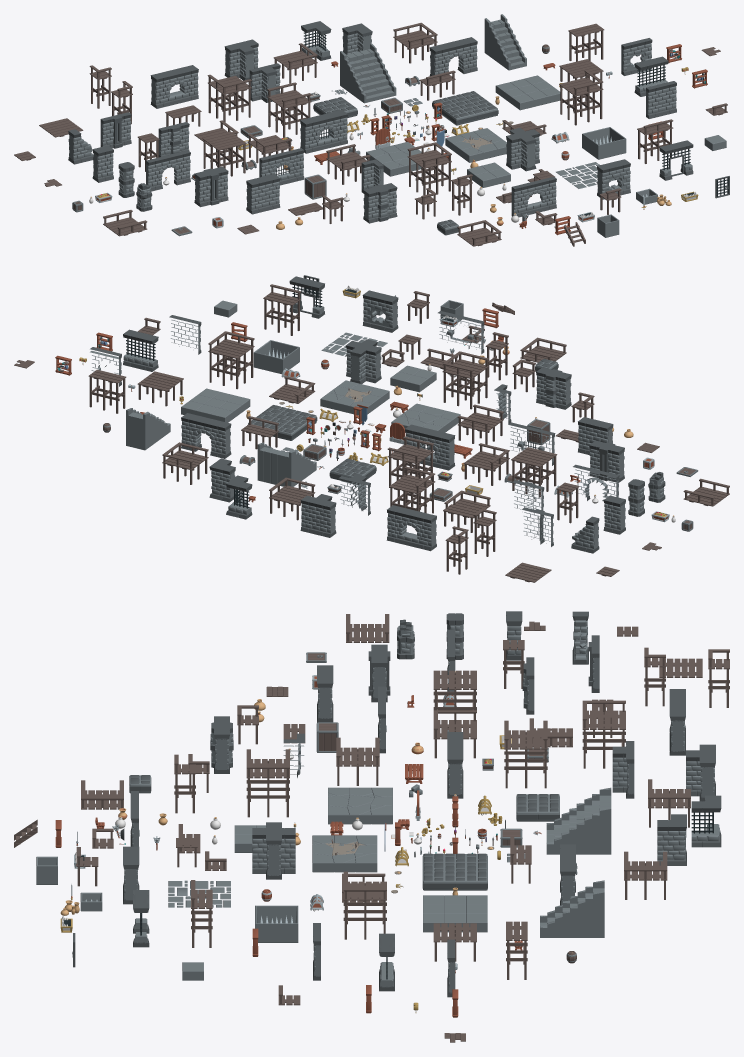
Rendered from medieval-scene-0.glb.
3 views of the same model, one above another, from view 1: azimuth 30°, elevation 25°; view 2: azimuth 150°, elevation 25°; view 3: azimuth 270°, elevation 25° (orthographic). The views are drawn at different scales.
Parts seen in each view (by area): view 1: stairs_wide, wall_windowGate, wall_window, stairs, tileBrickB_large, tileBrickB_largeCrackedB, scaffold_high_cornerBoth, tileBrickA_large, wall_door, scaffold_high_cornerLeft, wallSingle_window, scaffold_high_railing (+47 smaller); view 2: stairs_wide, wall_window, scaffold_high_cornerBoth, scaffold_high_cornerLeft, wall_door, tileBrickB_largeCrackedB, tileBrickB_large, wallIntersection, wall_windowGate, wallSplit, stairs, scaffold_high (+43 smaller); view 3: stairs_wide, stairs, tileBrickB_largeCrackedB, tileBrickA_large, tileBrickB_largeCrackedA, wallIntersection, tileBrickB_large, scaffold_high_cornerRight, scaffold_high_railing, scaffold_high_cornerBoth, scaffold_high_cornerLeft, tileSpikes_large (+29 smaller).
Boxes of the visible parts, x1=… form: stairs_wide: x1=340, y1=43, x2=396, y2=103; wall_windowGate: x1=300, y1=110, x2=347, y2=153; wall_window: x1=150, y1=65, x2=198, y2=108; stairs: x1=484, y1=14, x2=526, y2=70; tileBrickB_large: x1=495, y1=75, x2=560, y2=110; tileBrickB_largeCrackedB: x1=445, y1=128, x2=506, y2=162; scaffold_high_cornerBoth: x1=407, y1=142, x2=451, y2=195; tileBrickA_large: x1=432, y1=91, x2=498, y2=125; wall_door: x1=429, y1=37, x2=477, y2=76; scaffold_high_cornerLeft: x1=559, y1=70, x2=603, y2=125; wallSingle_window: x1=511, y1=176, x2=556, y2=217; scaffold_high_railing: x1=267, y1=82, x2=311, y2=137; stairs_wide: x1=257, y1=442, x2=316, y2=486; wall_window: x1=386, y1=505, x2=436, y2=551; scaffold_high_cornerBoth: x1=442, y1=351, x2=488, y2=409; scaffold_high_cornerLeft: x1=208, y1=331, x2=254, y2=389; wall_door: x1=181, y1=413, x2=231, y2=458; tileBrickB_largeCrackedB: x1=320, y1=380, x2=389, y2=415; tileBrickB_large: x1=181, y1=388, x2=250, y2=422; wallIntersection: x1=346, y1=339, x2=381, y2=383; wall_windowGate: x1=405, y1=424, x2=455, y2=470; wallSplit: x1=300, y1=494, x2=336, y2=537; stairs: x1=126, y1=408, x2=170, y2=450; scaffold_high: x1=511, y1=447, x2=557, y2=497; stairs_wide: x1=546, y1=787, x2=611, y2=854; stairs: x1=540, y1=880, x2=604, y2=937; tileBrickB_largeCrackedB: x1=312, y1=835, x2=377, y2=872; tileBrickA_large: x1=422, y1=853, x2=487, y2=890; tileBrickB_largeCrackedA: x1=328, y1=787, x2=392, y2=824; wallIntersection: x1=252, y1=822, x2=295, y2=879; tileBrickB_large: x1=423, y1=895, x2=487, y2=932; scaffold_high_cornerRight: x1=582, y1=700, x2=625, y2=768; scaffold_high_railing: x1=504, y1=720, x2=547, y2=788; scaffold_high_cornerBoth: x1=246, y1=749, x2=289, y2=817; scaffold_high_cornerLeft: x1=343, y1=871, x2=386, y2=939; tileSpikes_large: x1=255, y1=905, x2=298, y2=942.
Size of the model in its own units: 91.97 by 6.18 by 66.17.
